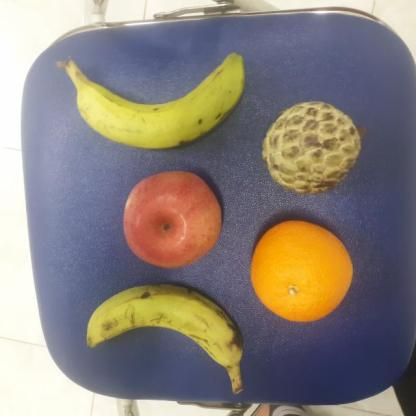annona: (261, 98, 364, 196)
apple: (121, 168, 225, 269)
banana: (65, 52, 246, 151), (83, 282, 244, 376)
orange: (244, 218, 356, 323)
